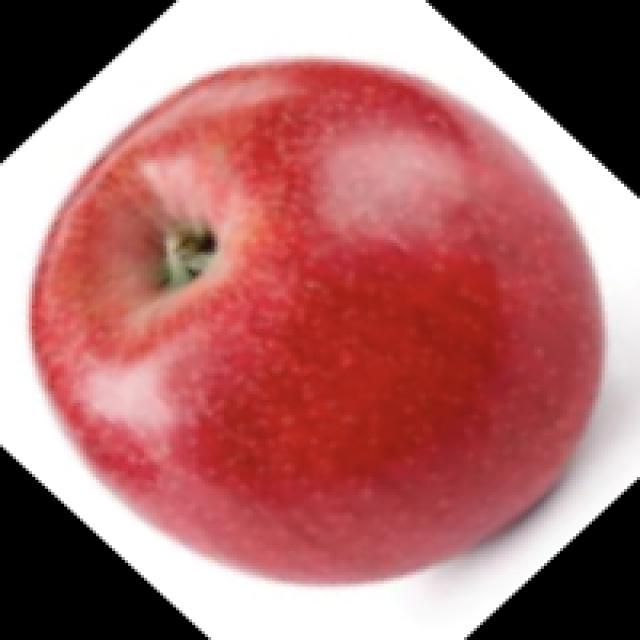Fresh Apple: (47, 62, 613, 575)
